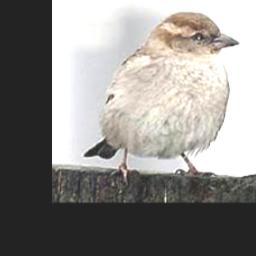Sparrow: (82, 11, 240, 185)
